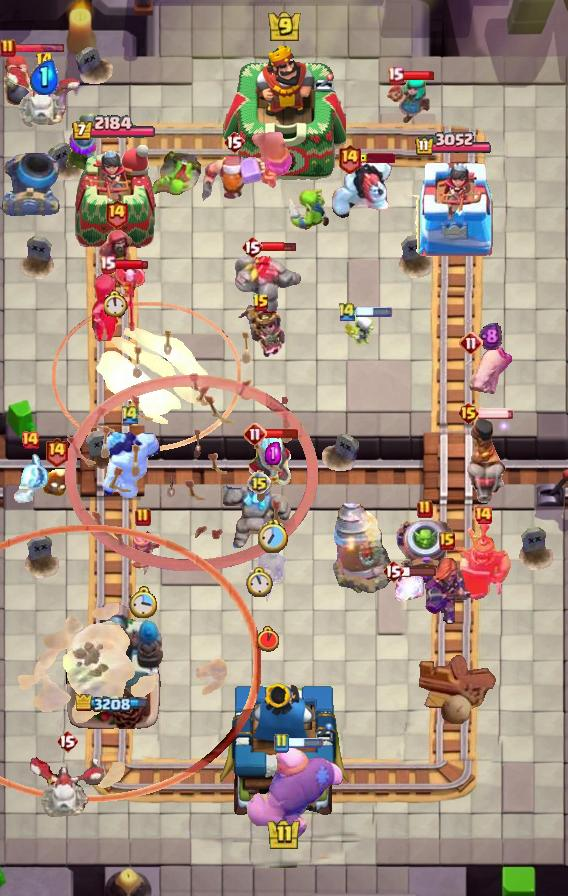archer: (125, 528, 161, 576)
bar: (13, 43, 65, 54), (261, 240, 297, 253), (477, 407, 515, 419), (401, 565, 437, 577), (113, 259, 149, 271), (286, 738, 324, 748), (355, 307, 393, 317), (265, 428, 299, 439), (401, 70, 435, 81), (359, 153, 395, 163)
bar-level: (44, 436, 69, 467), (104, 198, 129, 229), (337, 143, 362, 174), (247, 471, 271, 495), (243, 422, 267, 446), (459, 331, 483, 355), (457, 401, 480, 425), (56, 729, 78, 753), (382, 559, 404, 583), (241, 235, 263, 259), (223, 130, 245, 154), (120, 404, 140, 425), (337, 301, 357, 322), (473, 505, 493, 525), (20, 430, 40, 450), (35, 51, 54, 71), (252, 293, 270, 313), (99, 255, 116, 274), (387, 66, 404, 85), (273, 733, 289, 753), (135, 507, 151, 527), (417, 499, 433, 519), (0, 38, 16, 58), (439, 532, 455, 550)
bomber: (1, 50, 35, 106)
bomber-evolution: (245, 543, 291, 607)
cannoneer-tower: (64, 601, 164, 731)
clock: (258, 520, 288, 553), (129, 586, 158, 618), (246, 567, 273, 598), (104, 290, 128, 317), (257, 626, 279, 652)
elixir: (29, 59, 59, 95), (479, 322, 502, 351), (265, 442, 281, 465)
fire-spirit: (41, 469, 71, 497)
goblin: (286, 187, 334, 231)
goblin-ball: (148, 150, 202, 198)
golemite: (232, 252, 304, 324), (223, 484, 295, 554)
hog: (464, 344, 516, 398)
ice-spirit: (9, 453, 51, 505)
ice-wizard: (241, 432, 305, 504)
king-tower: (220, 678, 349, 826), (223, 44, 346, 181)
lava-pup: (392, 572, 426, 604)
little-prince: (234, 303, 289, 359)
lumberjack: (200, 154, 268, 208)
mortar: (0, 152, 60, 216)
mortar-evolution: (393, 517, 457, 587)
musketeer: (251, 127, 293, 191), (64, 111, 98, 175)
night-witch: (88, 263, 148, 347)
queen-tower: (71, 145, 157, 256), (408, 158, 498, 256)
ram-rider: (463, 417, 507, 503)
rascal-girl: (386, 72, 432, 126)
royal-recruit: (454, 523, 512, 603)
skeleton: (341, 313, 377, 347)
tower-bar: (71, 115, 157, 142), (414, 132, 493, 157), (75, 694, 153, 715)
valkyrie-evolution: (421, 555, 473, 627)
wizard: (97, 230, 135, 276)
